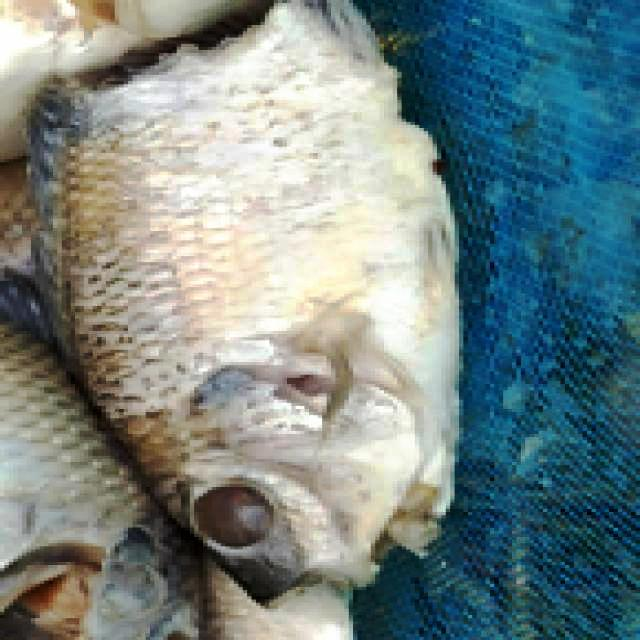Columnaris Disease: (28, 0, 459, 639)
